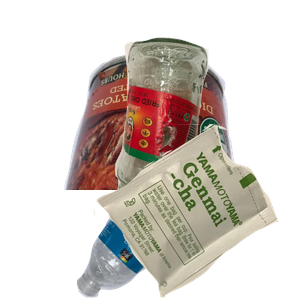glass: (112, 35, 300, 215)
metal: (62, 47, 300, 227)
plastic: (74, 156, 280, 300)
trash: (91, 124, 300, 300)
